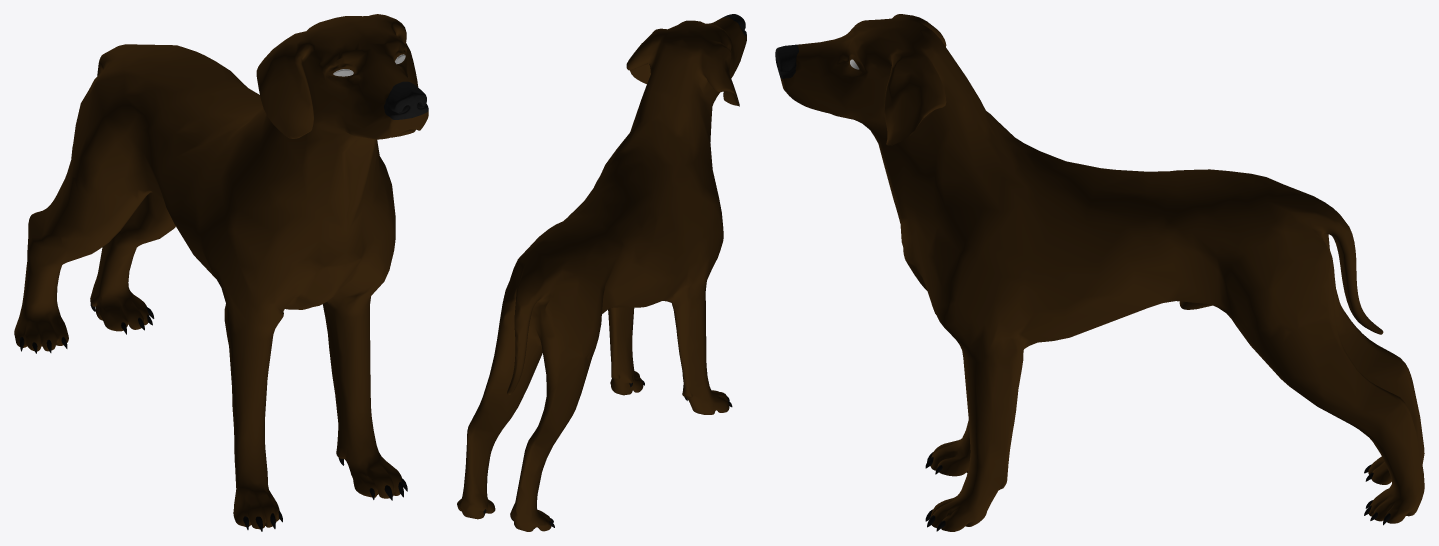
Rendered from Dog.glb.
3 renders of one model, left to right at view 1: azimuth 30°, elevation 25°; view 2: azimuth 150°, elevation 25°; view 3: azimuth 270°, elevation 25°, orthographic. The views are drawn at different scales.
Parts seen in each view (by area): view 1: Dog, Dog_0 1, Dog_0 3, Dog_0 6, Dog_0 4, Dog_0 5, Dog_0 2, Paws_1; view 2: Dog, Dog_0 1, Dog_0 5, Dog_0 3, Dog_0 4, Dog_0 6; view 3: Dog_0 1, Dog_0 5, Dog_0 6, Dog, Dog_0 3, Dog_0 4.
Boxes of the visible parts, x1=… form: Dog: x1=71, y1=17, x2=411, y2=340; Dog_0 1: x1=133, y1=14, x2=428, y2=317; Dog_0 3: x1=14, y1=150, x2=145, y2=351; Dog_0 6: x1=322, y1=302, x2=403, y2=498; Dog_0 4: x1=224, y1=318, x2=279, y2=529; Dog_0 5: x1=90, y1=192, x2=175, y2=331; Dog_0 2: x1=384, y1=81, x2=428, y2=119; Paws_1: x1=19, y1=304, x2=407, y2=531; Dog: x1=508, y1=17, x2=746, y2=394; Dog_0 1: x1=497, y1=17, x2=727, y2=394; Dog_0 5: x1=457, y1=338, x2=542, y2=519; Dog_0 3: x1=510, y1=350, x2=594, y2=531; Dog_0 4: x1=671, y1=295, x2=729, y2=414; Dog_0 6: x1=608, y1=307, x2=643, y2=395; Dog_0 1: x1=780, y1=27, x2=1383, y2=365; Dog_0 5: x1=1232, y1=309, x2=1424, y2=523; Dog_0 6: x1=930, y1=355, x2=1023, y2=531; Dog: x1=798, y1=14, x2=1382, y2=330; Dog_0 3: x1=1331, y1=275, x2=1424, y2=484; Dog_0 4: x1=930, y1=420, x2=970, y2=476.
Size of the model in its own units: 0.2735 by 0.7962 by 0.9985.
